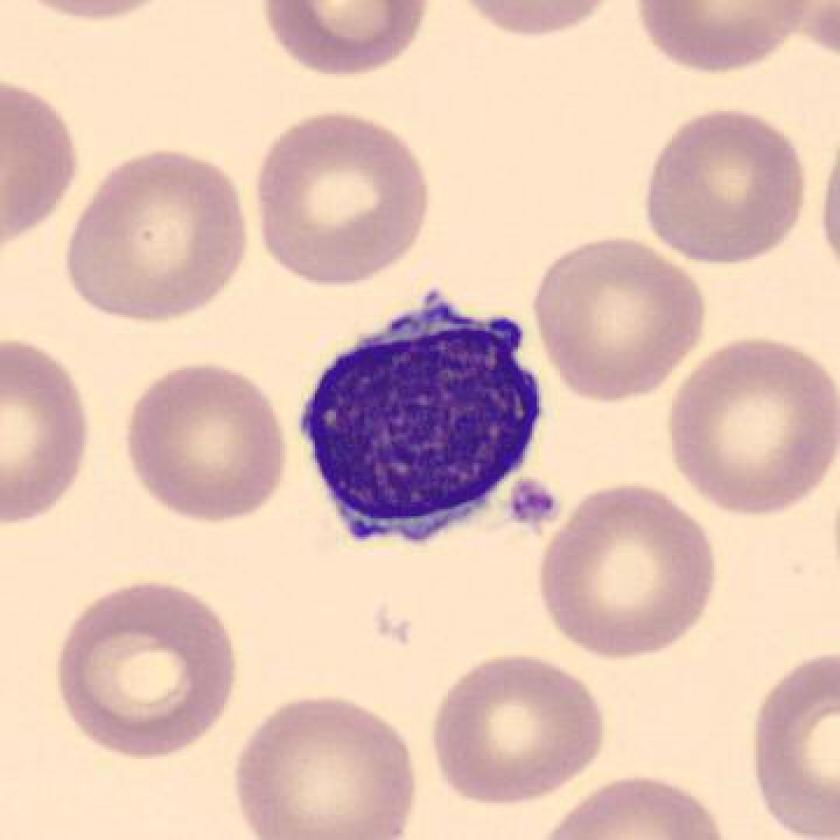lymphocyte: (284, 272, 564, 575)
